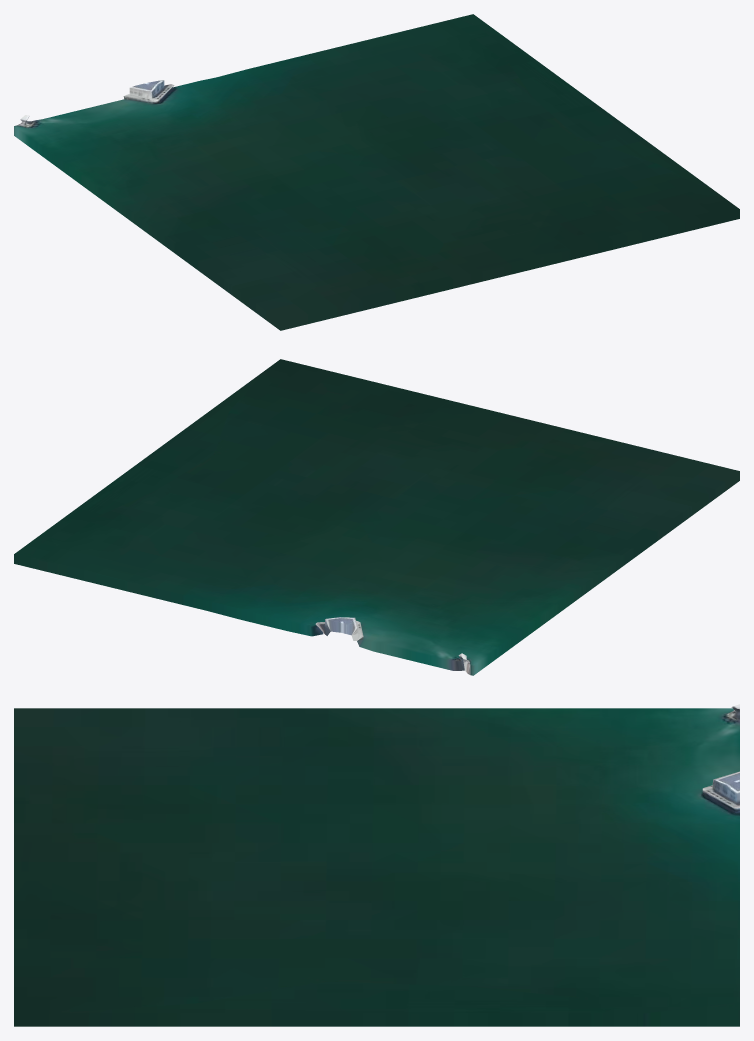
File: z16-10487-25325-h0-yup-uvflip-v3-world.glb
3 views of the same model, one above another, from view 1: azimuth 30°, elevation 25°; view 2: azimuth 150°, elevation 25°; view 3: azimuth 270°, elevation 25° (orthographic). The views are drawn at different scales.
Bounding box in the file's own units: 483 × 21.76 × 485.
Materials: 1 (1 with a texture image).
